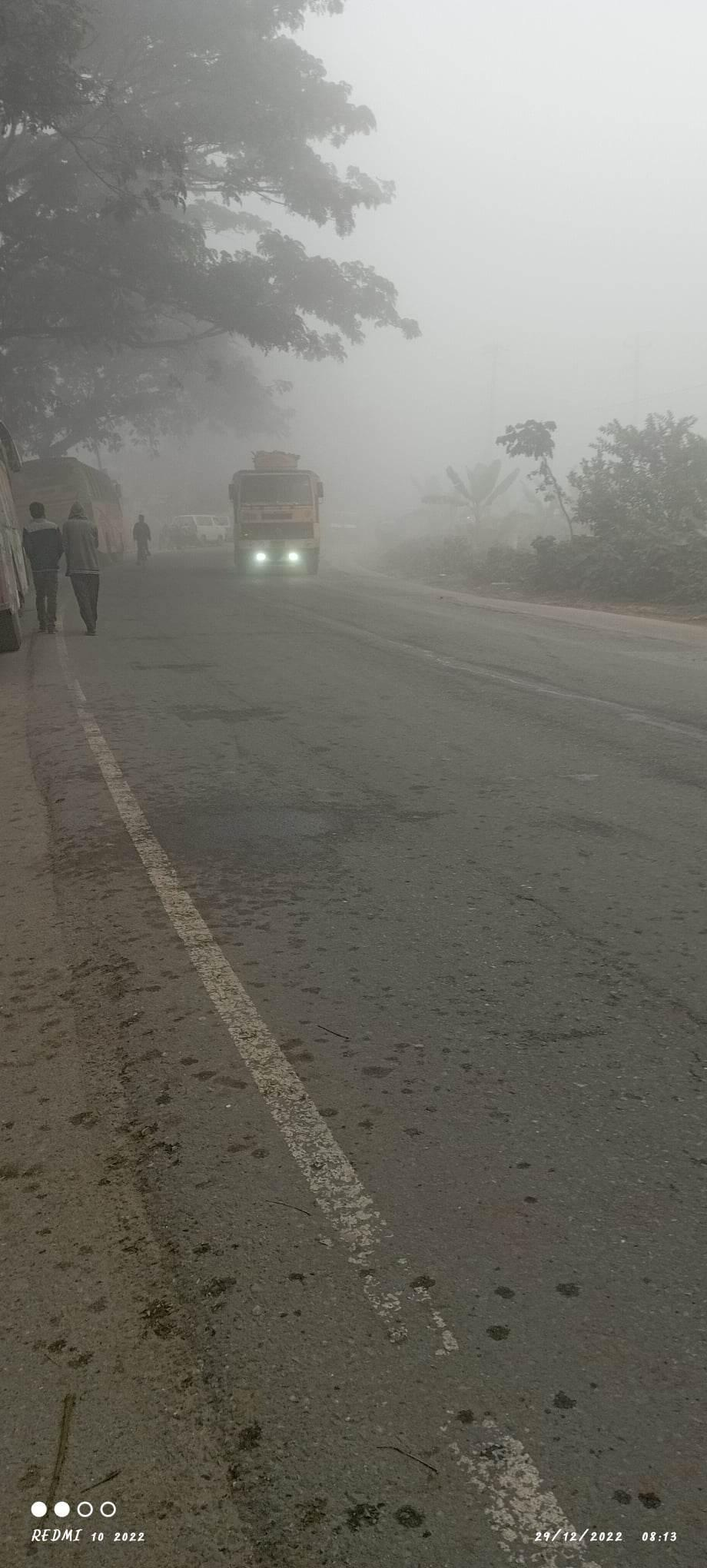Bus: (26, 417, 157, 583)
Truck: (209, 435, 360, 600)
